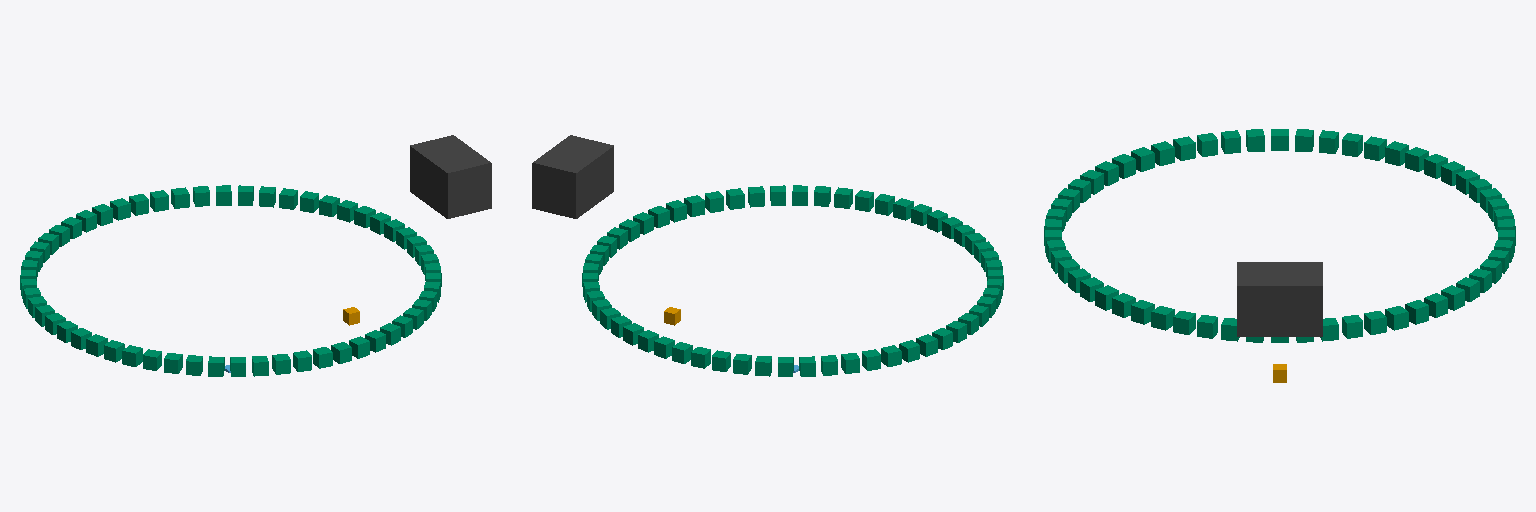
--- Render facts (derived) ---
Views: 3 orthographic renders of the robot side by side, from view 1: azimuth 30°, elevation 25°; view 2: azimuth 150°, elevation 25°; view 3: azimuth 270°, elevation 25°.
Model clover4 with 12 links and 11 joints (4 continuous, 7 fixed), rooted at base_link, posed all joints at 0.
Links seen in each view (by area): view 1: led_link, front_camera_link; view 2: led_link, front_camera_link; view 3: led_link, front_camera_link.
Boxes of the visible links, bbox=[...] form: led_link: bbox=[20, 185, 441, 376]; front_camera_link: bbox=[410, 135, 491, 218]; led_link: bbox=[582, 185, 1003, 376]; front_camera_link: bbox=[532, 135, 613, 218]; led_link: bbox=[1044, 129, 1515, 342]; front_camera_link: bbox=[1237, 262, 1322, 336].
Bounding box of the posed robot: 0.193 × 0.1661 × 0.0705 m (x, y, z).
0 mesh visuals loaded from 4 distinct referenced files (none loaded); not drawn: 6 (reference not matched to a file when rendering).

URDF robot description (clover4):
<?xml version="1.0" ?>
<!-- =================================================================================== -->
<!-- |    This document was autogenerated by xacro from my_clover_description/urdf/clover4_with_camera.urdf.xacro | -->
<!-- |    EDITING THIS FILE BY HAND IS NOT RECOMMENDED                                 | -->
<!-- =================================================================================== -->
<robot name="clover4">
  <!-- [kg] -->
  <link name="base_link"/>
  <!-- Note: For some reason this file relies on base_link_inertia becoming base_link.
         I don't even want to know.
         -sfalexrog
    -->
  <joint name="base_joint" type="fixed">
    <origin rpy="0 0 0" xyz="0 0 0"/>
    <parent link="base_link"/>
    <child link="base_link_inertia"/>
  </joint>
  <link name="base_link_inertia">
    <inertial>
      <mass value="1.5"/>
      <!-- [kg] -->
      <origin xyz="0 0 0"/>
      <inertia ixx="0.017234499999999996" ixy="0.0" ixz="0.0" iyy="0.017234499999999996" iyz="0.0" izz="0.030624999999999996"/>
    </inertial>
    <visual name="body">
      <origin rpy="0 0 0" xyz="0 0 0.025"/>
      <geometry>
        <!-- Note: Texture files are expected to be in the same directory as the model -->
        <mesh filename="package://clover_description/meshes/clover4/clover_body_solid.dae" scale="1 1 1"/>
      </geometry>
    </visual>
    <!-- Now, a person with some experience in building urdf/xacro files would say something along the lines of:
           "Hey, a link may have multiple visual tags, each with its own material!"
           Hear my answer, o experienced one. First, you are absolutely correct, you may add multiple visual
           elements to a single link. Second, once you try to put some transparency on your visual elements,
           you'll have it vanish into thin fucking air - Gazebo (as of version 9!) gives fuck all about your
           "color" attributes and whatnot. Third, oh, you want to reference the visual element from your
           "gazebo" tag down the line? Well fuck you, buddy, because you can only reference links and joints!
           So yeah, good luck improving this.
           - sfalexrog
      -->
    <collision>
      <origin rpy="0 0 0" xyz="0 0 0"/>
      <geometry>
        <box size="0.35 0.35 0.124"/>
        <!-- [m] [m] [m] -->
      </geometry>
    </collision>
  </link>
  <!-- This link is here for a single reason: to draw transparent parts (oh, and also to be the bane of my existence).
         I'm going to leave helpful comments for the poor soul who's going to attempt to improve this file.
        -sfalexrog
    -->
  <link name="base_guard_link">
    <!-- So we've established we actually need a link. Now, if you look at the SDF spec for some reason
           (much like I did), you'll notice you don't really need much for a link to exist. And that is a
           big fucking lie. Sure, go ahead, create a link without inertial or collision properties,
           see how far that gets you (spoiler: it will get you fucking nowhere, because Gazebo will
           devour your puny link and all that it stands for).
           - sfalexrog
      -->
    <inertial>
      <!-- We give an oh-so-tiny mass to the link to avoid it being destroyed by Gazebo -->
      <mass value="0.015"/>
      <!-- [kg] -->
      <origin rpy="0 0 0" xyz="0 0 0"/>
      <!-- We also give it some inertia, so that the physics engine does not go crazy
             (and to avoid it being devoured by Gazebo)
        -->
      <inertia ixx="1.25e-07" ixy="0.0" ixz="0.0" iyy="1.25e-07" iyz="0.0" izz="1.25e-07"/>
    </inertial>
    <!-- We may want to have proper collision tucked away here at some point, though -->
    <collision>
      <origin rpy="0 0 0" xyz="0 0 0"/>
      <geometry>
        <box size="0.01 0.01 0.01"/>
        <!-- [m] [m] [m] -->
      </geometry>
    </collision>
    <visual>
      <!-- This origin should be the same as in "base_link_inertia" visuals -->
      <origin rpy="0 0 0" xyz="0 0 0.025"/>
      <geometry>
        <mesh filename="package://clover_description/meshes/clover4/clover_guards_transparent.dae" scale="1 1 1"/>
      </geometry>
      <!-- Let me reiterate that you can't put the "material" tag to any effect -->
    </visual>
  </link>
  <!-- Now, the last thing to do is to attach the base_guard_link to base_link. Since
         base_guard_link has no meaning by itself, it must be fixed rigidly to base_link.
         Except Gazebo absolutely loves "optimizing away" your fixed joints and all
         child links with them! How do we deal with that nonsense? Read on to find out!
         - sfalexrog
    -->
  <joint name="base_guard_joint" type="fixed">
    <origin rpy="0 0 0" xyz="0 0 0"/>
    <parent link="base_link"/>
    <child link="base_guard_link"/>
  </joint>
  <!-- attach multirotor_base_plugin to the base_link -->
  <gazebo>
    <plugin filename="libgazebo_multirotor_base_plugin.so" name="rosbag">
      <robotNamespace></robotNamespace>
      <linkName>base_link</linkName>
      <rotorVelocitySlowdownSim>10</rotorVelocitySlowdownSim>
    </plugin>
  </gazebo>
  <!-- And here's what you've been waiting for: the way to save a fixed joint from
         Gazebo's wrath! You plead for it to save your joint, and it might answer
        (depending on the version, apparently).
        Note that it is done in other places as well.
        - sfalexrog
     -->
  <gazebo reference="base_guard_joint">
    <disableFixedJointLumping>true</disableFixedJointLumping>
    <preserveFixedJoint>true</preserveFixedJoint>
  </gazebo>
  <!-- ...and here's another absolutely terrible idea: you can only set a material for
         the whole link, not for its part. And that's incompatible with URDF's material
         definition. Yeah.
         - sfalexrog
    -->
  <gazebo reference="base_guard_link">
    <material>Polycarbonate</material>
  </gazebo>
  <gazebo reference="base_link">
    <kp>10000.0</kp>
    <kd>10.0</kd>
    <maxVel>10.0</maxVel>
    <minDepth>0.001</minDepth>
  </gazebo>
  <joint name="rotor_0_joint" type="continuous">
    <origin rpy="0 0 0" xyz="0.083 -0.083 0.026"/>
    <axis xyz="0 0 1"/>
    <!-- TODO(ff): not currently set because it's not yet supported -->
    <!-- <limit effort="2000" velocity="${max_rot_velocity}" /> -->
    <parent link="base_link"/>
    <child link="rotor_0"/>
  </joint>
  <!-- TODO(ff): not currently set because it's not yet supported -->
  <!-- <gazebo reference="rotor_${motor_number}_joint"> <axis> <xyz>0 0 1</xyz>
      <limit> <velocity> ${max_rot_velocity} </velocity> </limit> </axis> </gazebo> -->
  <link name="rotor_0">
    <inertial>
      <mass value="0.01"/>
      <!-- [kg] -->
      <inertia ixx="1.95e-06" ixy="0.0" ixz="0.0" iyy="0.000120075" iyz="0.0" izz="0.00012187499999999998"/>
    </inertial>
    <visual>
      <geometry>
        <mesh filename="package://clover_description/meshes/clover4/prop_ccw.dae" scale="1 1 1"/>
      </geometry>
    </visual>
    <collision>
      <geometry>
        <cylinder length="0.005" radius="0.06"/>
        <!-- [m] -->
      </geometry>
    </collision>
  </link>
  <gazebo>
    <plugin filename="libgazebo_motor_model.so" name="front_right_motor_model">
      <robotNamespace></robotNamespace>
      <jointName>rotor_0_joint</jointName>
      <linkName>rotor_0</linkName>
      <turningDirection>ccw</turningDirection>
      <timeConstantUp>0.0125</timeConstantUp>
      <timeConstantDown>0.025</timeConstantDown>
      <maxRotVelocity>1100</maxRotVelocity>
      <motorConstant>8.54858e-06</motorConstant>
      <momentConstant>0.06</momentConstant>
      <commandSubTopic>/gazebo/command/motor_speed</commandSubTopic>
      <motorNumber>0</motorNumber>
      <rotorDragCoefficient>0.000175</rotorDragCoefficient>
      <rollingMomentCoefficient>1e-06</rollingMomentCoefficient>
      <motorSpeedPubTopic>/motor_speed/0</motorSpeedPubTopic>
      <rotorVelocitySlowdownSim>10</rotorVelocitySlowdownSim>
      <!--
        <gazebo_joint_control_pid>
          <p>0.1</p>
          <i>0</i>
          <d>0</d>
          <iMax>0</iMax>
          <iMin>0</iMin>
          <cmdMax>3</cmdMax>
          <cmdMin>-3</cmdMin>
        </gazebo_joint_control_pid>
      -->
    </plugin>
  </gazebo>
  <!-- <gazebo reference="rotor_${motor_number}">
      <material>Gazebo/${color}</material>
    </gazebo> -->
  <joint name="rotor_1_joint" type="continuous">
    <origin rpy="0 0 0" xyz="-0.083 0.083 0.026"/>
    <axis xyz="0 0 1"/>
    <!-- TODO(ff): not currently set because it's not yet supported -->
    <!-- <limit effort="2000" velocity="${max_rot_velocity}" /> -->
    <parent link="base_link"/>
    <child link="rotor_1"/>
  </joint>
  <!-- TODO(ff): not currently set because it's not yet supported -->
  <!-- <gazebo reference="rotor_${motor_number}_joint"> <axis> <xyz>0 0 1</xyz>
      <limit> <velocity> ${max_rot_velocity} </velocity> </limit> </axis> </gazebo> -->
  <link name="rotor_1">
    <inertial>
      <mass value="0.01"/>
      <!-- [kg] -->
      <inertia ixx="1.95e-06" ixy="0.0" ixz="0.0" iyy="0.000120075" iyz="0.0" izz="0.00012187499999999998"/>
    </inertial>
    <visual>
      <geometry>
        <mesh filename="package://clover_description/meshes/clover4/prop_ccw.dae" scale="1 1 1"/>
      </geometry>
    </visual>
    <collision>
      <geometry>
        <cylinder length="0.005" radius="0.06"/>
        <!-- [m] -->
      </geometry>
    </collision>
  </link>
  <gazebo>
    <plugin filename="libgazebo_motor_model.so" name="back_left_motor_model">
      <robotNamespace></robotNamespace>
      <jointName>rotor_1_joint</jointName>
      <linkName>rotor_1</linkName>
      <turningDirection>ccw</turningDirection>
      <timeConstantUp>0.0125</timeConstantUp>
      <timeConstantDown>0.025</timeConstantDown>
      <maxRotVelocity>1100</maxRotVelocity>
      <motorConstant>8.54858e-06</motorConstant>
      <momentConstant>0.06</momentConstant>
      <commandSubTopic>/gazebo/command/motor_speed</commandSubTopic>
      <motorNumber>1</motorNumber>
      <rotorDragCoefficient>0.000175</rotorDragCoefficient>
      <rollingMomentCoefficient>1e-06</rollingMomentCoefficient>
      <motorSpeedPubTopic>/motor_speed/1</motorSpeedPubTopic>
      <rotorVelocitySlowdownSim>10</rotorVelocitySlowdownSim>
      <!--
        <gazebo_joint_control_pid>
          <p>0.1</p>
          <i>0</i>
          <d>0</d>
          <iMax>0</iMax>
          <iMin>0</iMin>
          <cmdMax>3</cmdMax>
          <cmdMin>-3</cmdMin>
        </gazebo_joint_control_pid>
      -->
    </plugin>
  </gazebo>
  <!-- <gazebo reference="rotor_${motor_number}">
      <material>Gazebo/${color}</material>
    </gazebo> -->
  <joint name="rotor_2_joint" type="continuous">
    <origin rpy="0 0 0" xyz="0.083 0.083 0.026"/>
    <axis xyz="0 0 1"/>
    <!-- TODO(ff): not currently set because it's not yet supported -->
    <!-- <limit effort="2000" velocity="${max_rot_velocity}" /> -->
    <parent link="base_link"/>
    <child link="rotor_2"/>
  </joint>
  <!-- TODO(ff): not currently set because it's not yet supported -->
  <!-- <gazebo reference="rotor_${motor_number}_joint"> <axis> <xyz>0 0 1</xyz>
      <limit> <velocity> ${max_rot_velocity} </velocity> </limit> </axis> </gazebo> -->
  <link name="rotor_2">
    <inertial>
      <mass value="0.01"/>
      <!-- [kg] -->
      <inertia ixx="1.95e-06" ixy="0.0" ixz="0.0" iyy="0.000120075" iyz="0.0" izz="0.00012187499999999998"/>
    </inertial>
    <visual>
      <geometry>
        <mesh filename="package://clover_description/meshes/clover4/prop_cw.dae" scale="1 1 1"/>
      </geometry>
    </visual>
    <collision>
      <geometry>
        <cylinder length="0.005" radius="0.06"/>
        <!-- [m] -->
      </geometry>
    </collision>
  </link>
  <gazebo>
    <plugin filename="libgazebo_motor_model.so" name="front_left_motor_model">
      <robotNamespace></robotNamespace>
      <jointName>rotor_2_joint</jointName>
      <linkName>rotor_2</linkName>
      <turningDirection>cw</turningDirection>
      <timeConstantUp>0.0125</timeConstantUp>
      <timeConstantDown>0.025</timeConstantDown>
      <maxRotVelocity>1100</maxRotVelocity>
      <motorConstant>8.54858e-06</motorConstant>
      <momentConstant>0.06</momentConstant>
      <commandSubTopic>/gazebo/command/motor_speed</commandSubTopic>
      <motorNumber>2</motorNumber>
      <rotorDragCoefficient>0.000175</rotorDragCoefficient>
      <rollingMomentCoefficient>1e-06</rollingMomentCoefficient>
      <motorSpeedPubTopic>/motor_speed/2</motorSpeedPubTopic>
      <rotorVelocitySlowdownSim>10</rotorVelocitySlowdownSim>
      <!--
        <gazebo_joint_control_pid>
          <p>0.1</p>
          <i>0</i>
          <d>0</d>
          <iMax>0</iMax>
          <iMin>0</iMin>
          <cmdMax>3</cmdMax>
          <cmdMin>-3</cmdMin>
        </gazebo_joint_control_pid>
      -->
    </plugin>
  </gazebo>
  <!-- <gazebo reference="rotor_${motor_number}">
      <material>Gazebo/${color}</material>
    </gazebo> -->
  <joint name="rotor_3_joint" type="continuous">
    <origin rpy="0 0 0" xyz="-0.083 -0.083 0.026"/>
    <axis xyz="0 0 1"/>
    <!-- TODO(ff): not currently set because it's not yet supported -->
    <!-- <limit effort="2000" velocity="${max_rot_velocity}" /> -->
    <parent link="base_link"/>
    <child link="rotor_3"/>
  </joint>
  <!-- TODO(ff): not currently set because it's not yet supported -->
  <!-- <gazebo reference="rotor_${motor_number}_joint"> <axis> <xyz>0 0 1</xyz>
      <limit> <velocity> ${max_rot_velocity} </velocity> </limit> </axis> </gazebo> -->
  <link name="rotor_3">
    <inertial>
      <mass value="0.01"/>
      <!-- [kg] -->
      <inertia ixx="1.95e-06" ixy="0.0" ixz="0.0" iyy="0.000120075" iyz="0.0" izz="0.00012187499999999998"/>
    </inertial>
    <visual>
      <geometry>
        <mesh filename="package://clover_description/meshes/clover4/prop_cw.dae" scale="1 1 1"/>
      </geometry>
    </visual>
    <collision>
      <geometry>
        <cylinder length="0.005" radius="0.06"/>
        <!-- [m] -->
      </geometry>
    </collision>
  </link>
  <gazebo>
    <plugin filename="libgazebo_motor_model.so" name="back_right_motor_model">
      <robotNamespace></robotNamespace>
      <jointName>rotor_3_joint</jointName>
      <linkName>rotor_3</linkName>
      <turningDirection>cw</turningDirection>
      <timeConstantUp>0.0125</timeConstantUp>
      <timeConstantDown>0.025</timeConstantDown>
      <maxRotVelocity>1100</maxRotVelocity>
      <motorConstant>8.54858e-06</motorConstant>
      <momentConstant>0.06</momentConstant>
      <commandSubTopic>/gazebo/command/motor_speed</commandSubTopic>
      <motorNumber>3</motorNumber>
      <rotorDragCoefficient>0.000175</rotorDragCoefficient>
      <rollingMomentCoefficient>1e-06</rollingMomentCoefficient>
      <motorSpeedPubTopic>/motor_speed/3</motorSpeedPubTopic>
      <rotorVelocitySlowdownSim>10</rotorVelocitySlowdownSim>
      <!--
        <gazebo_joint_control_pid>
          <p>0.1</p>
          <i>0</i>
          <d>0</d>
          <iMax>0</iMax>
          <iMin>0</iMin>
          <cmdMax>3</cmdMax>
          <cmdMin>-3</cmdMin>
        </gazebo_joint_control_pid>
      -->
    </plugin>
  </gazebo>
  <!-- <gazebo reference="rotor_${motor_number}">
      <material>Gazebo/${color}</material>
    </gazebo> -->
  <!-- IMU link -->
  <link name="/imu_link">
    <inertial>
      <inertia ixx="0.00001" ixy="0.0" ixz="0.0" iyy="0.00001" iyz="0.0" izz="0.00001"/>
      <mass value="0.015"/>
      <!-- [kg] -->
      <origin rpy="0 0 0" xyz="0 0 0"/>
    </inertial>
  </link>
  <!-- IMU joint -->
  <joint name="/imu_joint" type="fixed">
    <origin rpy="0 0 0" xyz="0 0 0"/>
    <parent link="base_link"/>
    <child link="/imu_link"/>
    <!-- <limit upper="0" lower="0" effort="0" velocity="0" /> -->
  </joint>
  <gazebo reference="/imu_joint">
    <disableFixedJointLumping>true</disableFixedJointLumping>
    <preserveFixedJoint>true</preserveFixedJoint>
  </gazebo>
  <gazebo>
    <plugin filename="libgazebo_groundtruth_plugin.so" name="groundtruth_plugin">
      <robotNamespace/>
    </plugin>
    <plugin filename="libgazebo_magnetometer_plugin.so" name="magnetometer_plugin">
      <robotNamespace/>
      <pubRate>100</pubRate>
      <noiseDensity>0.0004</noiseDensity>
      <randomWalk>6.4e-06</randomWalk>
      <biasCorrelationTime>600</biasCorrelationTime>
      <magTopic>/mag</magTopic>
    </plugin>
    <plugin filename="libgazebo_barometer_plugin.so" name="barometer_plugin">
      <robotNamespace/>
      <pubRate>50</pubRate>
      <baroTopic>/baro</baroTopic>
      <baroDriftPaPerSec>0</baroDriftPaPerSec>
    </plugin>
    <plugin filename="libgazebo_mavlink_interface.so" name="mavlink_interface">
      <robotNamespace/>
      <imuSubTopic>/imu</imuSubTopic>
      <magSubTopic>/mag</magSubTopic>
      <baroSubTopic>/baro</baroSubTopic>
      <mavlink_addr>INADDR_ANY</mavlink_addr>
      <mavlink_tcp_port>4560</mavlink_tcp_port>
      <mavlink_udp_port>14560</mavlink_udp_port>
      <serialEnabled>false</serialEnabled>
      <serialDevice>/dev/ttyACM0</serialDevice>
      <baudRate>921600</baudRate>
      <qgc_addr>INADDR_ANY</qgc_addr>
      <qgc_udp_port>14550</qgc_udp_port>
      <sdk_addr>INADDR_ANY</sdk_addr>
      <sdk_udp_port>14540</sdk_udp_port>
      <hil_mode>false</hil_mode>
      <hil_state_level>0</hil_state_level>
      <send_vision_estimation>0</send_vision_estimation>
      <send_odometry>1</send_odometry>
      <enable_lockstep>1</enable_lockstep>
      <use_tcp>1</use_tcp>
      <motorSpeedCommandPubTopic>/gazebo/command/motor_speed</motorSpeedCommandPubTopic>
      <control_channels>
        <channel name="rotor1">
          <input_index>0</input_index>
          <input_offset>0</input_offset>
          <input_scaling>1000</input_scaling>
          <zero_position_disarmed>0</zero_position_disarmed>
          <zero_position_armed>100</zero_position_armed>
          <joint_control_type>velocity</joint_control_type>
        </channel>
        <channel name="rotor2">
          <input_index>1</input_index>
          <input_offset>0</input_offset>
          <input_scaling>1000</input_scaling>
          <zero_position_disarmed>0</zero_position_disarmed>
          <zero_position_armed>100</zero_position_armed>
          <joint_control_type>velocity</joint_control_type>
        </channel>
        <channel name="rotor3">
          <input_index>2</input_index>
          <input_offset>0</input_offset>
          <input_scaling>1000</input_scaling>
          <zero_position_disarmed>0</zero_position_disarmed>
          <zero_position_armed>100</zero_position_armed>
          <joint_control_type>velocity</joint_control_type>
        </channel>
        <channel name="rotor4">
          <input_index>3</input_index>
          <input_offset>0</input_offset>
          <input_scaling>1000</input_scaling>
          <zero_position_disarmed>0</zero_position_disarmed>
          <zero_position_armed>100</zero_position_armed>
          <joint_control_type>velocity</joint_control_type>
        </channel>
        <channel name="rotor5">
          <input_index>4</input_index>
          <input_offset>1</input_offset>
          <input_scaling>324.6</input_scaling>
          <zero_position_disarmed>0</zero_position_disarmed>
          <zero_position_armed>0</zero_position_armed>
          <joint_control_type>velocity</joint_control_type>
          <joint_control_pid>
            <p>0.1</p>
            <i>0</i>
            <d>0</d>
            <iMax>0.0</iMax>
            <iMin>0.0</iMin>
            <cmdMax>2</cmdMax>
            <cmdMin>-2</cmdMin>
          </joint_control_pid>
          <joint_name>zephyr_delta_wing::propeller_joint</joint_name>
        </channel>
        <channel name="rotor6">
          <input_index>5</input_index>
          <input_offset>0</input_offset>
          <input_scaling>0.524</input_scaling>
          <zero_position_disarmed>0</zero_position_disarmed>
          <zero_position_armed>0</zero_position_armed>
          <joint_control_type>position</joint_control_type>
          <joint_name>zephyr_delta_wing::flap_left_joint</joint_name>
          <joint_control_pid>
            <p>10.0</p>
            <i>0</i>
            <d>0</d>
            <iMax>0</iMax>
            <iMin>0</iMin>
            <cmdMax>20</cmdMax>
            <cmdMin>-20</cmdMin>
          </joint_control_pid>
        </channel>
        <channel name="rotor7">
          <input_index>6</input_index>
          <input_offset>0</input_offset>
          <input_scaling>0.524</input_scaling>
          <zero_position_disarmed>0</zero_position_disarmed>
          <zero_position_armed>0</zero_position_armed>
          <joint_control_type>position</joint_control_type>
          <joint_name>zephyr_delta_wing::flap_right_joint</joint_name>
          <joint_control_pid>
            <p>10.0</p>
            <i>0</i>
            <d>0</d>
            <iMax>0</iMax>
            <iMin>0</iMin>
            <cmdMax>20</cmdMax>
            <cmdMin>-20</cmdMin>
          </joint_control_pid>
        </channel>
        <channel name="rotor8">
          <input_index>7</input_index>
          <input_offset>0</input_offset>
          <input_scaling>0.524</input_scaling>
          <zero_position_disarmed>0</zero_position_disarmed>
          <zero_position_armed>0</zero_position_armed>
          <joint_control_type>position</joint_control_type>
        </channel>
      </control_channels>
    </plugin>
    <static>0</static>
    <plugin filename="libgazebo_imu_plugin.so" name="rotors_gazebo_imu_plugin">
      <robotNamespace/>
      <linkName>/imu_link</linkName>
      <imuTopic>/imu</imuTopic>
      <gyroscopeNoiseDensity>0.00018665</gyroscopeNoiseDensity>
      <gyroscopeRandomWalk>3.8785e-05</gyroscopeRandomWalk>
      <gyroscopeBiasCorrelationTime>1000.0</gyroscopeBiasCorrelationTime>
      <gyroscopeTurnOnBiasSigma>0.0087</gyroscopeTurnOnBiasSigma>
      <accelerometerNoiseDensity>0.00186</accelerometerNoiseDensity>
      <accelerometerRandomWalk>0.006</accelerometerRandomWalk>
      <accelerometerBiasCorrelationTime>300.0</accelerometerBiasCorrelationTime>
      <accelerometerTurnOnBiasSigma>0.196</accelerometerTurnOnBiasSigma>
    </plugin>
  </gazebo>
  <joint name="main_camera_joint" type="fixed">
    <origin rpy="0 1.5707963267948966 0" xyz="0.055 0.0 -0.03"/>
    <parent link="base_link"/>
    <child link="main_camera_link"/>
  </joint>
  <link name="main_camera_link">
    <visual>
      <origin rpy="0 0 0" xyz="0 0 0"/>
      <geometry>
        <box size="0.005 0.005 0.005"/>
      </geometry>
    </visual>
    <collision>
      <origin rpy="0 0 0" xyz="0 0 0"/>
      <geometry>
        <box size="0.005 0.005 0.005"/>
      </geometry>
    </collision>
    <inertial>
      <mass value="0.015"/>
      <origin xyz="0 0 0"/>
      <inertia ixx="4.15e-6" ixy="0" ixz="0" iyy="2.407e-6" iyz="0" izz="2.407e-6"/>
    </inertial>
  </link>
  <gazebo reference="main_camera_joint">
    <disableFixedJointLumping>true</disableFixedJointLumping>
    <preserveFixedJoint>true</preserveFixedJoint>
  </gazebo>
  <gazebo reference="main_camera_link">
    <sensor name="main_camera" type="camera">
      <camera>
        <horizontal_fov>2.0943951023931953</horizontal_fov>
        <image>
          <format>B8G8R8</format>
          <width>320</width>
          <height>240</height>
        </image>
        <clip>
          <near>0.02</near>
          <far>1000</far>
        </clip>
        <distortion>
          <k1>0</k1>
          <k2>0</k2>
          <k3>0</k3>
          <p1>0</p1>
          <p2>0</p2>
          <center>0.5 0.5</center>
        </distortion>
      </camera>
      <always_on>1</always_on>
      <update_rate>40</update_rate>
      <visualize>1</visualize>
      <plugin filename="libgazebo_ros_camera.so" name="camera_plugin">
        <alwaysOn>true</alwaysOn>
        <imageTopicName>image_raw</imageTopicName>
        <cameraTopicName>camera_info</cameraTopicName>
        <updateRate>40</updateRate>
        <cameraName>main_camera</cameraName>
        <frameName>/main_camera_optical</frameName>
        <CxPrime>160.5</CxPrime>
        <Cx>160.5</Cx>
        <Cy>120.5</Cy>
        <distortionK1>0</distortionK1>
        <distortionK2>0</distortionK2>
        <distortionK3>0</distortionK3>
        <distortionT1>0</distortionT1>
        <distortionT2>0</distortionT2>
        <!-- throttling_camera specific options start here -->
        <minUpdateRate>38.0</minUpdateRate>
        <windowSize>40</windowSize>
        <maxStDev>0.075</maxStDev>
      </plugin>
    </sensor>
  </gazebo>
  <joint name="lidar_vl53l1x_joint" type="fixed">
    <origin rpy="0 1.5707963267948966 0" xyz="0.0 0.0 -0.04"/>
    <parent link="base_link"/>
    <child link="lidar_vl53l1x_link"/>
  </joint>
  <link name="lidar_vl53l1x_link">
    <visual>
      <origin rpy="0 0 0" xyz="0 0 0"/>
      <geometry>
        <box size="0.001 0.005 0.005"/>
      </geometry>
    </visual>
    <collision>
      <origin rpy="0 0 0" xyz="0 0 0"/>
      <geometry>
        <box size="0.001 0.001 0.005"/>
      </geometry>
    </collision>
    <inertial>
      <mass value="0.015"/>
      <origin xyz="0 0 0"/>
      <inertia ixx="4.15e-6" ixy="0" ixz="0" iyy="2.407e-6" iyz="0" izz="2.407e-6"/>
    </inertial>
  </link>
  <gazebo reference="lidar_vl53l1x_joint">
    <disableFixedJointLumping>true</disableFixedJointLumping>
    <preserveFixedJoint>true</preserveFixedJoint>
  </gazebo>
  <gazebo reference="lidar_vl53l1x_link">
    <sensor name="lidar_vl53l1x" type="ray">
      <pose>0 0 0 0 0 0</pose>
      <ray>
        <scan>
          <horizontal>
            <samples>1</samples>
            <resolution>1</resolution>
            <min_angle>-0</min_angle>
            <max_angle>0</max_angle>
          </horizontal>
        </scan>
        <range>
          <min>0.03</min>
          <!-- Note: This is a hack, since the rangefinder is inside the drone collision box -->
          <max>4.0</max>
          <resolution>0.01</resolution>
        </range>
      </ray>
      <plugin filename="libgazebo_ros_range.so" name="laser">
        <robotNamespace/>
        <!-- FIXME: fill namespace? -->
        <topicName>/rangefinder/range</topicName>
        <frameName>rangefinder</frameName>
        <radiation>infrared</radiation>
        <fov>0.471239</fov>
        <gaussianNoise>0.001</gaussianNoise>
        <updateRate>10</updateRate>
        <min_distance>0.01</min_distance>
        <max_distance>4.0</max_distance>
      </plugin>
      <always_on>1</always_on>
      <update_rate>10</update_rate>
      <visualize>true</visualize>
    </sensor>
  </gazebo>
  <joint name="led_joint" type="fixed">
    <origin rpy="0 0 0" xyz="0 0 -0.002"/>
    <parent link="base_link"/>
    <child link="led_link"/>
  </joint>
  <link name="led_link">
    <inertial>
      <origin xyz="0 0 0"/>
      <mass value="0.0001"/>
      <inertia ixx="0.001" ixy="0.0" ixz="0.0" iyy="0.001" iyz="0.0" izz="0.001"/>
    </inertial>
    <visual>
      <origin rpy="0 0 0.0" xyz="0.08 0.0 0"/>
      <geometry>
        <box size="0.006 0.006 0.006"/>
      </geometry>
    </visual>
    <visual>
      <origin rpy="0 0 0.10833078115826873" xyz="0.07953103657234877 0.008649521473915341 0"/>
      <geometry>
        <box size="0.006 0.006 0.006"/>
      </geometry>
    </visual>
    <visual>
      <origin rpy="0 0 0.21666156231653746" xyz="0.07812964445680694 0.017197635216881925 0"/>
      <geometry>
        <box size="0.006 0.006 0.006"/>
      </geometry>
    </visual>
    <visual>
      <origin rpy="0 0 0.3249923434748062" xyz="0.0758122536946242 0.0255441224108784 0"/>
      <geometry>
        <box size="0.006 0.006 0.006"/>
      </geometry>
    </visual>
    <visual>
      <origin rpy="0 0 0.43332312463307493" xyz="0.07260603357367656 0.03359112812482117 0"/>
      <geometry>
        <box size="0.006 0.006 0.006"/>
      </geometry>
    </visual>
    <visual>
      <origin rpy="0 0 0.5416539057913436" xyz="0.06854857409340714 0.04124430857416174 0"/>
      <geometry>
        <box size="0.006 0.006 0.006"/>
      </geometry>
    </visual>
    <visual>
      <origin rpy="0 0 0.6499846869496124" xyz="0.06368744525645151 0.04841393721550122 0"/>
      <geometry>
        <box size="0.006 0.006 0.006"/>
      </geometry>
    </visual>
    <visual>
      <origin rpy="0 0 0.7583154681078811" xyz="0.058079639353850465 0.05501595670827387 0"/>
      <geometry>
        <box size="0.006 0.006 0.006"/>
      </geometry>
    </visual>
    <visual>
      <origin rpy="0 0 0.8666462492661499" xyz="0.051790902782546215 0.06097296441021092 0"/>
      <geometry>
        <box size="0.006 0.006 0.006"/>
      </geometry>
    </visual>
    <visual>
      <origin rpy="0 0 0.9749770304244185" xyz="0.04489496522899059 0.06621511985255124 0"/>
      <geometry>
        <box size="0.006 0.006 0.006"/>
      </geometry>
    </visual>
    <visual>
      <origin rpy="0 0 1.0833078115826873" xyz="0.03747267525598321 0.07068096355568183 0"/>
      <geometry>
        <box size="0.006 0.006 0.006"/>
      </geometry>
    </visual>
    <visual>
      <origin rpy="0 0 1.1916385927409558" xyz="0.029611052427193165 0.07431813758534332 0"/>
      <geometry>
        <box size="0.006 0.006 0.006"/>
      </geometry>
    </visual>
    <visual>
      <origin rpy="0 0 1.2999693738992248" xyz="0.02140226708233766 0.07708399940153784 0"/>
      <geometry>
        <box size="0.006 0.006 0.006"/>
      </geometry>
    </visual>
    <visual>
      <origin rpy="0 0 1.4083001550574936" xyz="0.01294255972422117 0.0789461218033221 0"/>
      <geometry>
        <box size="0.006 0.006 0.006"/>
      </geometry>
    </visual>
    <visual>
      <origin rpy="0 0 1.5166309362157622" xyz="0.0043311126868334085 0.07988267310808991 0"/>
      <geometry>
        <box size="0.006 0.006 0.006"/>
      </geometry>
    </visual>
    <visual>
      <origin rpy="0 0 1.6249617173740307" xyz="-0.004331112686833381 0.07988267310808991 0"/>
      <geometry>
        <box size="0.006 0.006 0.006"/>
      </geometry>
    </visual>
    <visual>
      <origin rpy="0 0 1.7332924985322997" xyz="-0.012942559724221179 0.0789461218033221 0"/>
      <geometry>
        <box size="0.006 0.006 0.006"/>
      </geometry>
    </visual>
    <visual>
      <origin rpy="0 0 1.8416232796905685" xyz="-0.02140226708233767 0.07708399940153783 0"/>
      <geometry>
        <box size="0.006 0.006 0.006"/>
      </geometry>
    </visual>
    <visual>
      <origin rpy="0 0 1.949954060848837" xyz="-0.02961105242719314 0.07431813758534332 0"/>
      <geometry>
        <box size="0.006 0.006 0.006"/>
      </geometry>
    </visual>
    <visual>
      <origin rpy="0 0 2.058284842007106" xyz="-0.037472675255983204 0.07068096355568183 0"/>
      <geometry>
        <box size="0.006 0.006 0.006"/>
      </geometry>
    </visual>
    <visual>
      <origin rpy="0 0 2.1666156231653746" xyz="-0.044894965228990585 0.06621511985255124 0"/>
      <geometry>
        <box size="0.006 0.006 0.006"/>
      </geometry>
    </visual>
    <visual>
      <origin rpy="0 0 2.2749464043236434" xyz="-0.05179090278254621 0.06097296441021092 0"/>
      <geometry>
        <box size="0.006 0.006 0.006"/>
      </geometry>
    </visual>
    <visual>
      <origin rpy="0 0 2.3832771854819117" xyz="-0.05807963935385045 0.05501595670827388 0"/>
      <geometry>
        <box size="0.006 0.006 0.006"/>
      </geometry>
    </visual>
    <visual>
      <origin rpy="0 0 2.4916079666401805" xyz="-0.06368744525645148 0.04841393721550124 0"/>
      <geometry>
        <box size="0.006 0.006 0.006"/>
      </geometry>
    </visual>
    <visual>
      <origin rpy="0 0 2.5999387477984497" xyz="-0.06854857409340714 0.04124430857416173 0"/>
      <geometry>
        <box size="0.006 0.006 0.006"/>
      </geometry>
    </visual>
    <visual>
      <origin rpy="0 0 2.7082695289567185" xyz="-0.07260603357367656 0.03359112812482116 0"/>
      <geometry>
        <box size="0.006 0.006 0.006"/>
      </geometry>
    </visual>
    <visual>
      <origin rpy="0 0 2.8166003101149872" xyz="-0.0758122536946242 0.025544122410878382 0"/>
      <geometry>
        <box size="0.006 0.006 0.006"/>
      </geometry>
    </visual>
    <visual>
      <origin rpy="0 0 2.9249310912732556" xyz="-0.07812964445680694 0.017197635216881942 0"/>
      <geometry>
        <box size="0.006 0.006 0.006"/>
      </geometry>
    </visual>
    <visual>
      <origin rpy="0 0 3.0332618724315243" xyz="-0.07953103657234877 0.008649521473915353 0"/>
      <geometry>
        <box size="0.006 0.006 0.006"/>
      </geometry>
    </visual>
    <visual>
      <origin rpy="0 0 3.141592653589793" xyz="-0.08 9.797174393178826e-18 0"/>
      <geometry>
        <box size="0.006 0.006 0.006"/>
      </geometry>
    </visual>
    <visual>
      <origin rpy="0 0 3.2499234347480614" xyz="-0.07953103657234878 -0.0086495214739153 0"/>
      <geometry>
        <box size="0.006 0.006 0.006"/>
      </geometry>
    </visual>
    <visual>
      <origin rpy="0 0 3.3582542159063307" xyz="-0.07812964445680694 -0.01719763521688192 0"/>
      <geometry>
        <box size="0.006 0.006 0.006"/>
      </geometry>
    </visual>
    <visual>
      <origin rpy="0 0 3.4665849970645994" xyz="-0.0758122536946242 -0.025544122410878396 0"/>
      <geometry>
        <box size="0.006 0.006 0.006"/>
      </geometry>
    </visual>
    <visual>
      <origin rpy="0 0 3.574915778222868" xyz="-0.07260603357367656 -0.03359112812482117 0"/>
      <geometry>
        <box size="0.006 0.006 0.006"/>
      </geometry>
    </visual>
    <visual>
      <origin rpy="0 0 3.683246559381137" xyz="-0.06854857409340713 -0.041244308574161746 0"/>
      <geometry>
        <box size="0.006 0.006 0.006"/>
      </geometry>
    </visual>
    <visual>
      <origin rpy="0 0 3.7915773405394053" xyz="-0.06368744525645152 -0.04841393721550119 0"/>
      <geometry>
        <box size="0.006 0.006 0.006"/>
      </geometry>
    </visual>
    <visual>
      <origin rpy="0 0 3.899908121697674" xyz="-0.058079639353850486 -0.05501595670827385 0"/>
      <geometry>
        <box size="0.006 0.006 0.006"/>
      </geometry>
    </visual>
    <visual>
      <origin rpy="0 0 4.008238902855943" xyz="-0.0517909027825462 -0.060972964410210925 0"/>
      <geometry>
        <box size="0.006 0.006 0.006"/>
      </geometry>
    </visual>
    <visual>
      <origin rpy="0 0 4.116569684014212" xyz="-0.0448949652289906 -0.06621511985255124 0"/>
      <geometry>
        <box size="0.006 0.006 0.006"/>
      </geometry>
    </visual>
    <visual>
      <origin rpy="0 0 4.22490046517248" xyz="-0.03747267525598325 -0.0706809635556818 0"/>
      <geometry>
        <box size="0.006 0.006 0.006"/>
      </geometry>
    </visual>
    <visual>
      <origin rpy="0 0 4.333231246330749" xyz="-0.029611052427193158 -0.07431813758534332 0"/>
      <geometry>
        <box size="0.006 0.006 0.006"/>
      </geometry>
    </visual>
    <visual>
      <origin rpy="0 0 4.4415620274890175" xyz="-0.021402267082337705 -0.07708399940153783 0"/>
      <geometry>
        <box size="0.006 0.006 0.006"/>
      </geometry>
    </visual>
    <visual>
      <origin rpy="0 0 4.549892808647287" xyz="-0.01294255972422118 -0.0789461218033221 0"/>
      <geometry>
        <box size="0.006 0.006 0.006"/>
      </geometry>
    </visual>
    <visual>
      <origin rpy="0 0 4.658223589805555" xyz="-0.004331112686833436 -0.07988267310808991 0"/>
      <geometry>
        <box size="0.006 0.006 0.006"/>
      </geometry>
    </visual>
    <visual>
      <origin rpy="0 0 4.766554370963823" xyz="0.0043311126868333365 -0.07988267310808991 0"/>
      <geometry>
        <box size="0.006 0.006 0.006"/>
      </geometry>
    </visual>
    <visual>
      <origin rpy="0 0 4.874885152122093" xyz="0.012942559724221153 -0.0789461218033221 0"/>
      <geometry>
        <box size="0.006 0.006 0.006"/>
      </geometry>
    </visual>
    <visual>
      <origin rpy="0 0 4.983215933280361" xyz="0.021402267082337608 -0.07708399940153786 0"/>
      <geometry>
        <box size="0.006 0.006 0.006"/>
      </geometry>
    </visual>
    <visual>
      <origin rpy="0 0 5.09154671443863" xyz="0.02961105242719313 -0.07431813758534332 0"/>
      <geometry>
        <box size="0.006 0.006 0.006"/>
      </geometry>
    </visual>
    <visual>
      <origin rpy="0 0 5.199877495596899" xyz="0.037472675255983225 -0.07068096355568183 0"/>
      <geometry>
        <box size="0.006 0.006 0.006"/>
      </geometry>
    </visual>
    <visual>
      <origin rpy="0 0 5.308208276755168" xyz="0.044894965228990585 -0.06621511985255125 0"/>
      <geometry>
        <box size="0.006 0.006 0.006"/>
      </geometry>
    </visual>
    <visual>
      <origin rpy="0 0 5.416539057913437" xyz="0.051790902782546236 -0.0609729644102109 0"/>
      <geometry>
        <box size="0.006 0.006 0.006"/>
      </geometry>
    </visual>
    <visual>
      <origin rpy="0 0 5.524869839071705" xyz="0.058079639353850465 -0.05501595670827387 0"/>
      <geometry>
        <box size="0.006 0.006 0.006"/>
      </geometry>
    </visual>
    <visual>
      <origin rpy="0 0 5.6332006202299745" xyz="0.06368744525645152 -0.04841393721550119 0"/>
      <geometry>
        <box size="0.006 0.006 0.006"/>
      </geometry>
    </visual>
    <visual>
      <origin rpy="0 0 5.741531401388243" xyz="0.06854857409340714 -0.04124430857416174 0"/>
      <geometry>
        <box size="0.006 0.006 0.006"/>
      </geometry>
    </visual>
    <visual>
      <origin rpy="0 0 5.849862182546511" xyz="0.07260603357367655 -0.03359112812482119 0"/>
      <geometry>
        <box size="0.006 0.006 0.006"/>
      </geometry>
    </visual>
    <visual>
      <origin rpy="0 0 5.95819296370478" xyz="0.0758122536946242 -0.025544122410878393 0"/>
      <geometry>
        <box size="0.006 0.006 0.006"/>
      </geometry>
    </visual>
    <visual>
      <origin rpy="0 0 6.066523744863049" xyz="0.07812964445680694 -0.01719763521688195 0"/>
      <geometry>
        <box size="0.006 0.006 0.006"/>
      </geometry>
    </visual>
    <visual>
      <origin rpy="0 0 6.174854526021317" xyz="0.07953103657234877 -0.008649521473915399 0"/>
      <geometry>
        <box size="0.006 0.006 0.006"/>
      </geometry>
    </visual>
  </link>
  <gazebo reference="led_link">
    <visual>
      <plugin filename="libsim_leds.so" name="led_controller">
        <robotNamespace/>
        <ledCount>58</ledCount>
      </plugin>
      <cast_shadows>false</cast_shadows>
      <material>
        <ambient>0 0 0 1</ambient>
        <diffuse>0 0 0 1</diffuse>
        <specular>0 0 0 1</specular>
        <emissive>0 0 0 1</emissive>
      </material>
    </visual>
  </gazebo>
  <gazebo reference="led_joint">
    <disableFixedJointLumping>true</disableFixedJointLumping>
    <preserveFixedJoint>true</preserveFixedJoint>
  </gazebo>
  <!-- <gazebo>
            <static>true</static>
        </gazebo> -->
  <gazebo>
    <plugin filename="libsim_leds_controller.so" name="led_ros_controller">
      <robotNamespace/>
      <ledCount>58</ledCount>
    </plugin>
  </gazebo>
  <gazebo>
    <include>
      <uri>model://gps</uri>
      <pose>0.1 0 0 0 0 0</pose>
      <name>gps0</name>
    </include>
    <joint name="gps0_joint" type="fixed">
      <child>gps0::link</child>
      <parent>base_link</parent>
    </joint>
  </gazebo>
  <!-- Front camera -->
  <link name="front_camera_link">
    <visual>
      <geometry>
        <box size="0.02 0.03 0.02"/>
      </geometry>
      <material name="camera_plastic">
        <color rgba="0.3 0.3 0.3 1"/>
      </material>
    </visual>
    <inertial>
      <mass value="0.01"/>
      <inertia ixx="0.001" ixy="0.0" ixz="0.0" iyy="0.001" iyz="0.0" izz="0.001"/>
    </inertial>
  </link>
  <joint name="front_camera_joint" type="fixed">
    <parent link="base_link"/>
    <child link="front_camera_link"/>
    <origin rpy="0 0 0" xyz="0.1 0 0.02"/>
  </joint>
  <!-- Gazebo plugin for camera -->
  <gazebo reference="front_camera_link">
    <sensor name="front_camera" type="camera">
      <update_rate>30.0</update_rate>
      <camera name="front">
        <horizontal_fov>1.047</horizontal_fov>
        <image>
          <width>640</width>
          <height>480</height>
          <format>R8G8B8</format>
        </image>
        <clip>
          <near>0.05</near>
          <far>300</far>
        </clip>
      </camera>
      <plugin filename="libgazebo_ros_camera.so" name="camera_controller">
        <alwaysOn>true</alwaysOn>
        <updateRate>0.0</updateRate>
        <cameraName>clover/front_camera</cameraName>
        <imageTopicName>image_raw</imageTopicName>
        <cameraInfoTopicName>camera_info</cameraInfoTopicName>
        <frameName>front_camera_link</frameName>
      </plugin>
    </sensor>
  </gazebo>
</robot>
